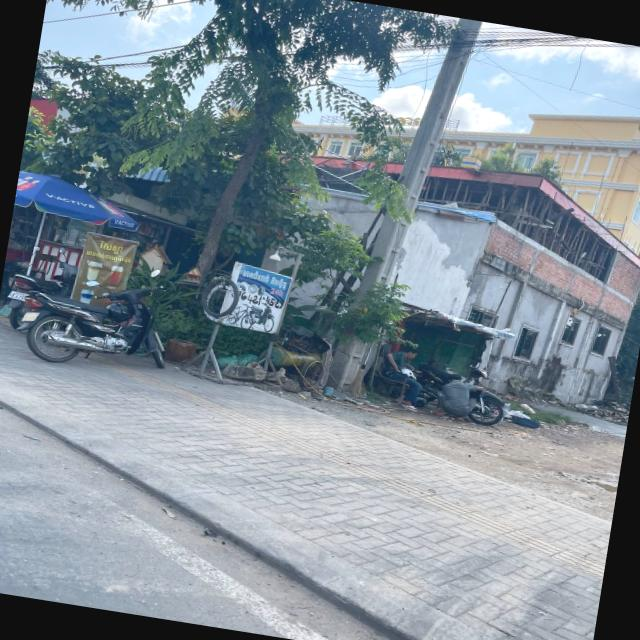1: (240, 267, 289, 292)
Yolov11_80vkh: (83, 249, 133, 266), (96, 238, 126, 256)
